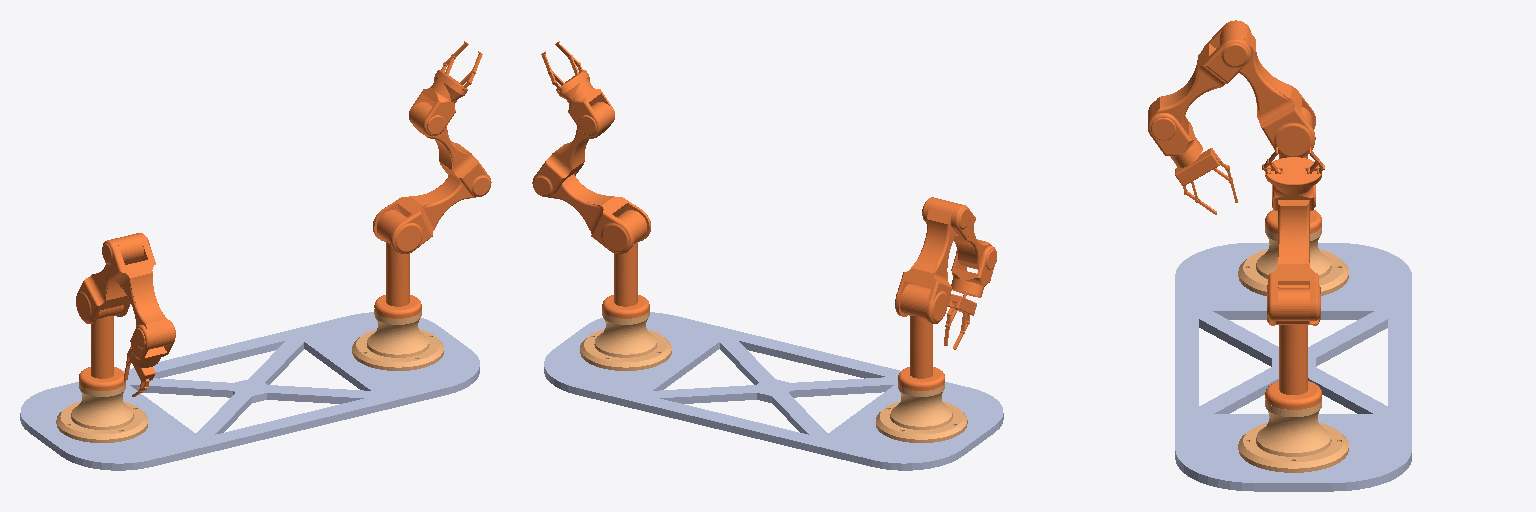
The robot description file, URDF, robot "mango_5":
<?xml version="1.0" encoding="utf-8"?>
<!-- This URDF was automatically created by SolidWorks to URDF Exporter! Originally created by [author] ([email redacted])
     Commit Version: 1.5.1-0-g916b5db  Build Version: 1.5.7152.31018
     For more information, please see http://wiki.ros.org/sw_urdf_exporter -->
<robot name="mango_5">

  <link name="world"/>
  <joint name="fixed" type="fixed">
    <parent link="world"/>
    <child link="base_link"/>
    <origin xyz="0.0 0.0 0.0" rpy="0.0 0.0 0.0" />
  </joint>

  <link name="base_link">
    <inertial>
      <origin
        xyz="0.55927 -0.48502 -0.20699"
        rpy="0 0 0" />
      <mass
        value="28.563" />
      <inertia
        ixx="1.4273"
        ixy="4.2352E-17"
        ixz="3.348E-18"
        iyy="9.1536"
        iyz="8.4264E-17"
        izz="10.577" />
    </inertial>
    <visual>
      <origin
        xyz="0 0 0"
        rpy="0 0 0" />
      <geometry>
        <mesh
          filename="package://mango_5/meshes/base_link.STL" />
      </geometry>
      <material
        name="">
        <color
          rgba="0.79216 0.81961 0.93333 1" />
      </material>
    </visual>
    <collision>
      <origin
        xyz="0 0 0"
        rpy="0 0 0" />
      <geometry>
        <mesh
          filename="package://mango_5/meshes/base_link.STL" />
      </geometry>
    </collision>
  </link>
  <link name="arm1_base_link">
    <inertial>
      <origin
        xyz="1.1102E-16 -0.061494 3.817E-09"
        rpy="0 0 0" />
      <mass
        value="12.326" />
      <inertia
        ixx="0.08948"
        ixy="-3.9642E-17"
        ixz="1.4073E-20"
        iyy="0.10835"
        iyz="3.4843E-09"
        izz="0.08948" />
    </inertial>
    <visual>
      <origin
        xyz="0 0 0"
        rpy="0 0 0" />
      <geometry>
        <mesh
          filename="package://mango_5/meshes/arm1_base_link.STL" />
      </geometry>
      <material
        name="">
        <color
          rgba="0.98824 0.73725 0.51765 1" />
      </material>
    </visual>
    <collision>
      <origin
        xyz="0 0 0"
        rpy="0 0 0" />
      <geometry>
        <mesh
          filename="package://mango_5/meshes/arm1_base_link.STL" />
      </geometry>
    </collision>
  </link>
  <joint name="arm1_base_joint"
    type="fixed">
    <origin
      xyz="-0.090731 -0.48502 -0.19199"
      rpy="-1.5708 0 -1.5708" />
    <parent
      link="base_link" />
    <child
      link="arm1_base_link" />
    <axis
      xyz="0 0 0" />
  </joint>
  <link name="arm1_link1">
    <inertial>
      <origin
        xyz="-7.7923E-08 0.21472 1.5467E-08"
        rpy="0 0 0" />
      <mass
        value="6.5885" />
      <inertia
        ixx="0.11783"
        ixy="3.2015E-08"
        ixz="-9.8953E-09"
        iyy="0.013183"
        iyz="-4.8087E-09"
        izz="0.11739" />
    </inertial>
    <visual>
      <origin
        xyz="0 0 0"
        rpy="0 0 0" />
      <geometry>
        <mesh
          filename="package://mango_5/meshes/arm1_link1.STL" />
      </geometry>
      <material
        name="">
        <color
          rgba="1 0.54902 0.29412 1" />
      </material>
    </visual>
    <collision>
      <origin
        xyz="0 0 0"
        rpy="0 0 0" />
      <geometry>
        <mesh
          filename="package://mango_5/meshes/arm1_link1.STL" />
      </geometry>
    </collision>
  </link>
  <joint name="arm1_joint1"
    type="revolute">
    <origin
      xyz="0 -0.15 0"
      rpy="3.14159265358979 0.011940527673363 0" />
    <parent
      link="arm1_base_link" />
    <child
      link="arm1_link1" />
    <axis
      xyz="0 1 0" />
    <limit
      lower="-6"
      upper="6"
      effort="100000"
      velocity="100" />
  </joint>
  <link name="arm1_link2">
    <inertial>
      <origin
        xyz="4.903E-09 0.1606 -1.9773E-08"
        rpy="0 0 0" />
      <mass
        value="7.0596" />
      <inertia
        ixx="0.11953"
        ixy="-3.9571E-07"
        ixz="5.6187E-08"
        iyy="0.020135"
        iyz="2.0369E-07"
        izz="0.12624" />
    </inertial>
    <visual>
      <origin
        xyz="0 0 0"
        rpy="0 0 0" />
      <geometry>
        <mesh
          filename="package://mango_5/meshes/arm1_link2.STL" />
      </geometry>
      <material
        name="">
        <color
          rgba="1 0.54902 0.29412 1" />
      </material>
    </visual>
    <collision>
      <origin
        xyz="0 0 0"
        rpy="0 0 0" />
      <geometry>
        <mesh
          filename="package://mango_5/meshes/arm1_link2.STL" />
      </geometry>
    </collision>
  </link>
  <joint name="arm1_joint2"
    type="revolute">
    <origin
      xyz="0 0.36 0"
      rpy="0.55343 1.5708 0" />
    <parent
      link="arm1_link1" />
    <child
      link="arm1_link2" />
    <axis
      xyz="1 0 0" />
    <limit
      lower="-3.14"
      upper="3.14"
      effort="100000"
      velocity="100" />
  </joint>
  <link  name="arm1_link3">
    <inertial>
      <origin
        xyz="-2.7561E-07 0.17228 -4.1564E-07"
        rpy="0 0 0" />
      <mass
        value="5.7914" />
      <inertia
        ixx="0.1009"
        ixy="-1.0674E-08"
        ixz="5.6588E-08"
        iyy="0.014012"
        iyz="-7.9629E-09"
        izz="0.1076" />
    </inertial>
    <visual>
      <origin
        xyz="0 0 0"
        rpy="0 0 0" />
      <geometry>
        <mesh
          filename="package://mango_5/meshes/arm1_link3.STL" />
      </geometry>
      <material
        name="">
        <color
          rgba="0.98824 0.54902 0.29412 1" />
      </material>
    </visual>
    <collision>
      <origin
        xyz="0 0 0"
        rpy="0 0 0" />
      <geometry>
        <mesh
          filename="package://mango_5/meshes/arm1_link3.STL" />
      </geometry>
    </collision>
  </link>
  <joint name="arm1_joint3"
    type="revolute">
    <origin
      xyz="0 0.350000000000009 0"
      rpy="1.88217697673079 0 0" />
    <parent
      link="arm1_link2" />
    <child
      link="arm1_link3" />
    <axis
      xyz="1 0 0" />
    <limit
      lower="-3.14"
      upper="3.14"
      effort="100000"
      velocity="100" />
  </joint>
  <link  name="arm1_link4">
    <inertial>
      <origin
        xyz="1.2078E-07 0.077553 4.284E-09"
        rpy="0 0 0" />
      <mass
        value="2.3579" />
      <inertia
        ixx="0.010694"
        ixy="-6.9438E-09"
        ixz="-1.041E-08"
        iyy="0.0059505"
        iyz="-2.0735E-09"
        izz="0.0079627" />
    </inertial>
    <visual>
      <origin
        xyz="0 0 0"
        rpy="0 0 0" />
      <geometry>
        <mesh
          filename="package://mango_5/meshes/arm1_link4.STL" />
      </geometry>
      <material
        name="">
        <color
          rgba="1 0.54902 0.29412 1" />
      </material>
    </visual>
    <collision>
      <origin
        xyz="0 0 0"
        rpy="0 0 0" />
      <geometry>
        <mesh
          filename="package://mango_5/meshes/arm1_link4.STL" />
      </geometry>
    </collision>
  </link>
  <joint name="arm1_joint4"
    type="revolute">
    <origin
      xyz="0 0.350000000000018 0"
      rpy="1.5707963267949 0.286073040189066 1.5707963267949" />
    <parent
      link="arm1_link3" />
    <child
      link="arm1_link4" />
    <axis
      xyz="0 0 1" />
    <limit
      lower="-3.14"
      upper="3.14"
      effort="100000"
      velocity="100" />
  </joint>
  <link  name="arm1_link5">
    <inertial>
      <origin
        xyz="-1.904E-05 -3.8652E-06 -0.0145"
        rpy="0 0 0" />
      <mass
        value="0.66998" />
      <inertia
        ixx="0.0009317"
        ixy="-1.1406E-07"
        ixz="1.7813E-07"
        iyy="0.0020563"
        iyz="3.6277E-08"
        izz="0.0013837" />
    </inertial>
    <visual>
      <origin
        xyz="0 0 0"
        rpy="0 0 0" />
      <geometry>
        <mesh
          filename="package://mango_5/meshes/arm1_link5.STL" />
      </geometry>
      <material
        name="">
        <color
          rgba="1 0.54902 0.29412 1" />
      </material>
    </visual>
    <collision>
      <origin
        xyz="0 0 0"
        rpy="0 0 0" />
      <geometry>
        <mesh
          filename="package://mango_5/meshes/arm1_link5.STL" />
      </geometry>
    </collision>
  </link>
  <joint name="arm1_joint5"
    type="revolute">
    <origin
      xyz="0 0.21966 0"
      rpy="-1.5708 0.012272 0" />
    <parent
      link="arm1_link4" />
    <child
      link="arm1_link5" />
    <axis
      xyz="0 0 1" />
    <limit
      lower="-3.14"
      upper="3.14"
      effort="100000"
      velocity="100" />
  </joint>
  <link  name="arm2_base_link">
    <inertial>
      <origin
        xyz="5.5511E-17 0.061494 9.9177E-09"
        rpy="0 0 0" />
      <mass
        value="12.326" />
      <inertia
        ixx="0.08948"
        ixy="3.9545E-17"
        ixz="-7.899E-20"
        iyy="0.10835"
        iyz="-1.6874E-09"
        izz="0.08948" />
    </inertial>
    <visual>
      <origin
        xyz="0 0 0"
        rpy="0 0 0" />
      <geometry>
        <mesh
          filename="package://mango_5/meshes/arm2_base_link.STL" />
      </geometry>
      <material
        name="">
        <color
          rgba="0.98824 0.73725 0.51765 1" />
      </material>
    </visual>
    <collision>
      <origin
        xyz="0 0 0"
        rpy="0 0 0" />
      <geometry>
        <mesh
          filename="package://mango_5/meshes/arm2_base_link.STL" />
      </geometry>
    </collision>
  </link>
  <joint name="arm2_base_joint"
    type="fixed">
    <origin
      xyz="1.20926922286017 -0.485015913029201 -0.191989627797157"
      rpy="1.5707963267949 0 1.5707963267949" />
    <parent
      link="base_link" />
    <child
      link="arm2_base_link" />
    <axis
      xyz="0 0 0" />
  </joint>
  <link  name="arm2_link1">
    <inertial>
      <origin
        xyz="-7.7923E-08 0.21472 1.5467E-08"
        rpy="0 0 0" />
      <mass
        value="6.5885" />
      <inertia
        ixx="0.11783"
        ixy="3.2015E-08"
        ixz="-9.8953E-09"
        iyy="0.013183"
        iyz="-4.8087E-09"
        izz="0.11739" />
    </inertial>
    <visual>
      <origin
        xyz="0 0 0"
        rpy="0 0 0" />
      <geometry>
        <mesh
          filename="package://mango_5/meshes/arm2_link1.STL" />
      </geometry>
      <material
        name="">
        <color
          rgba="1 0.54902 0.29412 1" />
      </material>
    </visual>
    <collision>
      <origin
        xyz="0 0 0"
        rpy="0 0 0" />
      <geometry>
        <mesh
          filename="package://mango_5/meshes/arm2_link1.STL" />
      </geometry>
    </collision>
  </link>
  <joint  name="arm2_joint1"
    type="revolute">
    <origin
      xyz="0 0.15 0"
      rpy="0 -1.5701064071066 0" />
    <parent
      link="arm2_base_link" />
    <child
      link="arm2_link1" />
    <axis
      xyz="0 1 0" />
    <limit
      lower="-6"
      upper="6"
      effort="100000"
      velocity="100" />
  </joint>
  <link  name="arm2_link2">
    <inertial>
      <origin
        xyz="3.3481E-08 0.1606 9.2353E-08"
        rpy="0 0 0" />
      <mass
        value="7.0596" />
      <inertia
        ixx="0.11953"
        ixy="-4.1669E-07"
        ixz="6.1743E-08"
        iyy="0.020135"
        iyz="1.5479E-07"
        izz="0.12624" />
    </inertial>
    <visual>
      <origin
        xyz="0 0 0"
        rpy="0 0 0" />
      <geometry>
        <mesh
          filename="package://mango_5/meshes/arm2_link2.STL" />
      </geometry>
      <material
        name="">
        <color
          rgba="1 0.54902 0.29412 1" />
      </material>
    </visual>
    <collision>
      <origin
        xyz="0 0 0"
        rpy="0 0 0" />
      <geometry>
        <mesh
          filename="package://mango_5/meshes/arm2_link2.STL" />
      </geometry>
    </collision>
  </link>
  <joint  name="arm2_joint2"
    type="revolute">
    <origin
      xyz="0 0.36 0"
      rpy="1.14655709619566 1.5707963267949 0" />
    <parent
      link="arm2_link1" />
    <child
      link="arm2_link2" />
    <axis
      xyz="1 0 0" />
    <limit
      lower="-3.14"
      upper="3.14"
      effort="100000"
      velocity="100" />
  </joint>
  <link  name="arm2_link3">
    <inertial>
      <origin
        xyz="-3.5146E-07 0.17228 -2.708E-07"
        rpy="0 0 0" />
      <mass
        value="5.7914" />
      <inertia
        ixx="0.1009"
        ixy="-3.6212E-09"
        ixz="5.6558E-08"
        iyy="0.014012"
        iyz="4.8347E-09"
        izz="0.1076" />
    </inertial>
    <visual>
      <origin
        xyz="0 0 0"
        rpy="0 0 0" />
      <geometry>
        <mesh
          filename="package://mango_5/meshes/arm2_link3.STL" />
      </geometry>
      <material
        name="">
        <color
          rgba="0.98824 0.54902 0.29412 1" />
      </material>
    </visual>
    <collision>
      <origin
        xyz="0 0 0"
        rpy="0 0 0" />
      <geometry>
        <mesh
          filename="package://mango_5/meshes/arm2_link3.STL" />
      </geometry>
    </collision>
  </link>
  <joint  name="arm2_joint3"
    type="revolute">
    <origin
      xyz="0 0.35 0"
      rpy="-1.7176 0 0" />
    <parent
      link="arm2_link2" />
    <child
      link="arm2_link3" />
    <axis
      xyz="1 0 0" />
    <limit
      lower="-3.14"
      upper="3.14"
      effort="100000"
      velocity="100" />
  </joint>
  <link  name="arm2_link4">
    <inertial>
      <origin
        xyz="4.5747E-06 0.1033 -7.2535E-06"
        rpy="0 0 0" />
      <mass
        value="3.2794" />
      <inertia
        ixx="0.019376"
        ixy="-2.823E-06"
        ixz="-5.5145E-08"
        iyy="0.0088537"
        iyz="3.7408E-06"
        izz="0.014767" />
    </inertial>
    <visual>
      <origin
        xyz="0 0 0"
        rpy="0 0 0" />
      <geometry>
        <mesh
          filename="package://mango_5/meshes/arm2_link4.STL" />
      </geometry>
      <material
        name="">
        <color
          rgba="1 0.54902 0.29412 1" />
      </material>
    </visual>
    <collision>
      <origin
        xyz="0 0 0"
        rpy="0 0 0" />
      <geometry>
        <mesh
          filename="package://mango_5/meshes/arm2_link4.STL" />
      </geometry>
    </collision>
  </link>
  <joint  name="arm2_joint4"
    type="revolute">
    <origin
      xyz="0 0.350000000000017 0"
      rpy="1.57079632679473 0.308474059376602 1.57079632679489" />
    <parent
      link="arm2_link3" />
    <child
      link="arm2_link4" />
    <axis
      xyz="0 0 1" />
    <limit
      lower="-3.14"
      upper="3.14"
      effort="100000"
      velocity="100" />
  </joint>

  <transmission name="tran11">
    <type>transmission_interface/SimpleTransmission</type>
    <joint name="arm1_joint1">
      <hardwareInterface>hardware_interface/PositionJointInterface</hardwareInterface>
    </joint>
    <actuator name="motor11">
      <hardwareInterface>hardware_interface/PositionJointInterface</hardwareInterface>
      <mechanicalReduction>1</mechanicalReduction>
    </actuator>
  </transmission>

  <transmission name="tran12">
    <type>transmission_interface/SimpleTransmission</type>
    <joint name="arm1_joint2">
      <hardwareInterface>hardware_interface/PositionJointInterface</hardwareInterface>
    </joint>
    <actuator name="motor12">
      <hardwareInterface>hardware_interface/PositionJointInterface</hardwareInterface>
      <mechanicalReduction>1</mechanicalReduction>
    </actuator>
  </transmission>

  <transmission name="tran13">
    <type>transmission_interface/SimpleTransmission</type>
    <joint name="arm1_joint3">
      <hardwareInterface>hardware_interface/PositionJointInterface</hardwareInterface>
    </joint>
    <actuator name="motor13">
      <hardwareInterface>hardware_interface/PositionJointInterface</hardwareInterface>
      <mechanicalReduction>1</mechanicalReduction>
    </actuator>
  </transmission>

  <transmission name="tran14">
    <type>transmission_interface/SimpleTransmission</type>
    <joint name="arm1_joint4">
      <hardwareInterface>hardware_interface/PositionJointInterface</hardwareInterface>
    </joint>
    <actuator name="motor14">
      <hardwareInterface>hardware_interface/PositionJointInterface</hardwareInterface>
      <mechanicalReduction>1</mechanicalReduction>
    </actuator>
  </transmission>

  <transmission name="tran15">
    <type>transmission_interface/SimpleTransmission</type>
    <joint name="arm1_joint5">
      <hardwareInterface>hardware_interface/PositionJointInterface</hardwareInterface>
    </joint>
    <actuator name="motor15">
      <hardwareInterface>hardware_interface/PositionJointInterface</hardwareInterface>
      <mechanicalReduction>1</mechanicalReduction>
    </actuator>
  </transmission>

  <transmission name="tran21">
    <type>transmission_interface/SimpleTransmission</type>
    <joint name="arm2_joint1">
      <hardwareInterface>hardware_interface/PositionJointInterface</hardwareInterface>
    </joint>
    <actuator name="motor21">
      <hardwareInterface>hardware_interface/PositionJointInterface</hardwareInterface>
      <mechanicalReduction>1</mechanicalReduction>
    </actuator>
  </transmission>

  <transmission name="tran22">
    <type>transmission_interface/SimpleTransmission</type>
    <joint name="arm2_joint2">
      <hardwareInterface>hardware_interface/PositionJointInterface</hardwareInterface>
    </joint>
    <actuator name="motor22">
      <hardwareInterface>hardware_interface/PositionJointInterface</hardwareInterface>
      <mechanicalReduction>1</mechanicalReduction>
    </actuator>
  </transmission>

  <transmission name="tran23">
    <type>transmission_interface/SimpleTransmission</type>
    <joint name="arm2_joint3">
      <hardwareInterface>hardware_interface/PositionJointInterface</hardwareInterface>
    </joint>
    <actuator name="motor23">
      <hardwareInterface>hardware_interface/PositionJointInterface</hardwareInterface>
      <mechanicalReduction>1</mechanicalReduction>
    </actuator>
  </transmission>

  <transmission name="tran24">
    <type>transmission_interface/SimpleTransmission</type>
    <joint name="arm2_joint4">
      <hardwareInterface>hardware_interface/PositionJointInterface</hardwareInterface>
    </joint>
    <actuator name="motor24">
      <hardwareInterface>hardware_interface/PositionJointInterface</hardwareInterface>
      <mechanicalReduction>1</mechanicalReduction>
    </actuator>
  </transmission>

  <gazebo>
    <plugin name="gazebo_ros_control" filename="libgazebo_ros_control.so">
      <robotNamespace>/</robotNamespace>
    </plugin>
  </gazebo>


</robot>

--- What the picture shows (computed from the rendered views, not written in the file) ---
Views: 3 orthographic renders of the robot side by side, from view 1: azimuth 30°, elevation 25°; view 2: azimuth 150°, elevation 25°; view 3: azimuth 270°, elevation 25°.
Robot: mango_5 — 13 links, 12 joints (9 revolute, 3 fixed); root link world; default pose: every joint at zero.
Visible links, largest first — view 1: base_link, arm2_base_link, arm1_base_link, arm1_link3, arm2_link2, arm2_link1, arm1_link2, arm2_link3, arm1_link1, arm2_link4, arm1_link4; view 2: base_link, arm2_base_link, arm1_base_link, arm1_link2, arm2_link2, arm1_link1, arm2_link1, arm2_link3, arm2_link4, arm1_link3, arm1_link4, arm1_link5; view 3: base_link, arm2_base_link, arm1_link2, arm2_link3, arm1_link3, arm2_link1, arm1_base_link, arm2_link4, arm1_link4, arm2_link2, arm1_link5, arm1_link1.
Boxes of the visible links, bbox=[...] form: base_link: bbox=[20, 312, 479, 470]; arm2_base_link: bbox=[352, 309, 443, 370]; arm1_base_link: bbox=[56, 383, 147, 442]; arm1_link3: bbox=[102, 233, 172, 349]; arm2_link2: bbox=[373, 174, 475, 253]; arm2_link1: bbox=[374, 210, 421, 318]; arm1_link2: bbox=[76, 234, 143, 323]; arm2_link3: bbox=[410, 102, 491, 196]; arm1_link1: bbox=[79, 305, 125, 390]; arm2_link4: bbox=[409, 41, 482, 135]; arm1_link4: bbox=[129, 320, 175, 367]; base_link: bbox=[544, 312, 1003, 470]; arm2_base_link: bbox=[580, 309, 671, 370]; arm1_base_link: bbox=[876, 383, 967, 442]; arm1_link2: bbox=[895, 198, 957, 323]; arm2_link2: bbox=[548, 174, 650, 253]; arm1_link1: bbox=[898, 284, 944, 390]; arm2_link1: bbox=[602, 210, 649, 318]; arm2_link3: bbox=[532, 102, 613, 196]; arm2_link4: bbox=[541, 41, 614, 135]; arm1_link3: bbox=[922, 197, 991, 269]; arm1_link4: bbox=[951, 246, 996, 297]; arm1_link5: bbox=[944, 294, 976, 349]; base_link: bbox=[1175, 243, 1411, 491]; arm2_base_link: bbox=[1238, 399, 1348, 472]; arm1_link2: bbox=[1220, 23, 1315, 157]; arm2_link3: bbox=[1267, 200, 1320, 320]; arm1_link3: bbox=[1148, 20, 1250, 126]; arm2_link1: bbox=[1265, 325, 1321, 409]; arm1_base_link: bbox=[1238, 226, 1348, 295]; arm2_link4: bbox=[1262, 147, 1324, 210]; arm1_link4: bbox=[1148, 101, 1202, 167]; arm2_link2: bbox=[1267, 285, 1320, 325]; arm1_link5: bbox=[1175, 148, 1237, 214]; arm1_link1: bbox=[1265, 107, 1321, 233].
Size in the robot's own frame: 1.92 by 0.8366 by 1.24 metres.
12 mesh visuals loaded from 12 distinct referenced files (12 binary STL).
